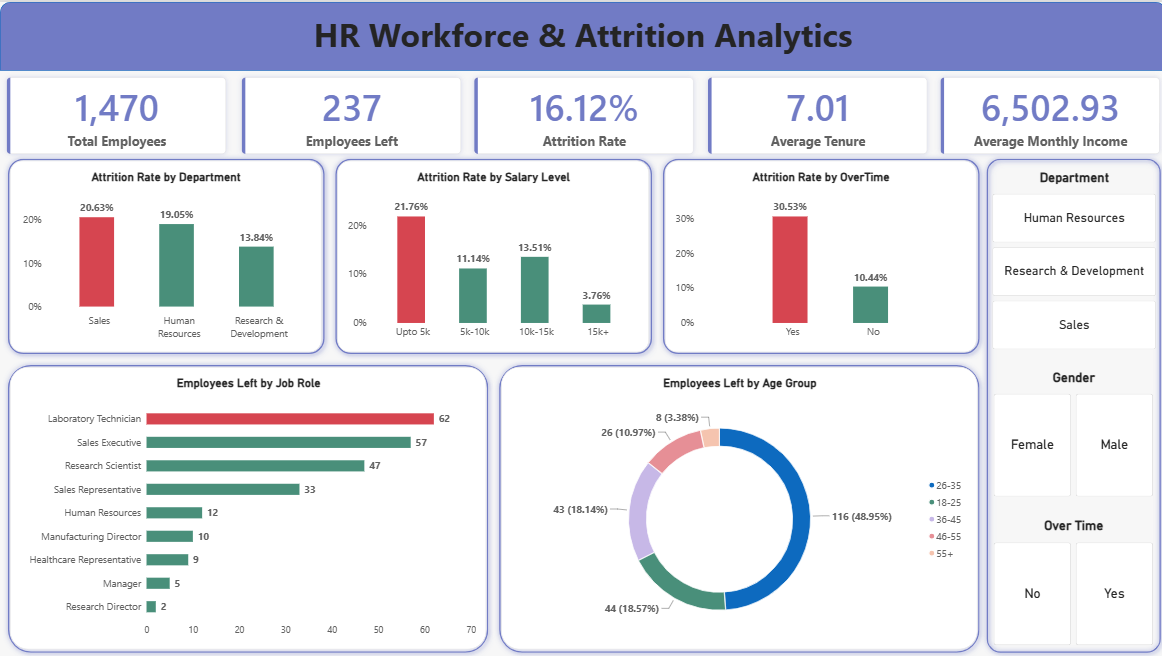

The page's visual inventory and layout, read from the dashboard file:
{"tool":"powerbi","page":{"name":"Workforce & Attrition Overview","canvas":[1920,1080],"ordinal":0},"visuals":[{"type":"cardVisual","fields":{"Data":["public hr_employee_data.Total Employees"]},"box":[0,113.2,383,148],"z":0},{"type":"cardVisual","fields":{"Data":["public hr_employee_data.Employees Left"]},"box":[387,113.2,383,148],"z":1000},{"type":"cardVisual","fields":{"Data":["public hr_employee_data.Attrition Rate"]},"box":[769.8,113.2,383,148],"z":2000},{"type":"cardVisual","fields":{"Data":["public hr_employee_data.Average Tenure"]},"box":[1154.7,113.2,383,148],"z":3000},{"type":"cardVisual","fields":{"Data":["public hr_employee_data.Average Monthly Income"]},"box":[1537.6,113.2,383,148],"z":4000},{"type":"shape","box":[0,0,1920.4,113.2],"z":5000},{"type":"textbox","box":[0,16.5,1920.4,127.6],"z":6000},{"type":"shape","box":[4.1,249.1,539.3,339.6],"z":7000},{"type":"shape","box":[543.4,249.1,539.3,339.6],"z":8000},{"type":"shape","box":[1082.7,249.1,539.3,339.6],"z":9000},{"type":"shape","box":[4.1,588.7,808.9,491.9],"z":10000},{"type":"shape","box":[813,588,808.9,491.9],"z":11000},{"type":"shape","box":[1615.8,249.1,304.6,831.6],"z":12000},{"type":"clusteredColumnChart","title":"Attrition Rate by Department","fields":{"Category":["public hr_employee_data.department"],"Y":["public hr_employee_data.Attrition Rate"]},"box":[16.5,261.4,512.5,314.9],"z":13000},{"type":"clusteredBarChart","title":"Employees Left by Job Role","fields":{"Category":["public hr_employee_data.job_role"],"Y":["public hr_employee_data.Employees Left"]},"box":[16.5,601,784.2,465.2],"z":14000},{"type":"clusteredColumnChart","title":"Attrition Rate by Salary Level","fields":{"Category":["public hr_employee_data.salary_slab"],"Y":["public hr_employee_data.Attrition Rate"]},"box":[555.7,261.4,512.5,314.9],"z":15000},{"type":"clusteredColumnChart","title":"Attrition Rate by OverTime","fields":{"Category":["public hr_employee_data.over_time"],"Y":["public hr_employee_data.Attrition Rate"]},"box":[1095,261.4,512.5,314.9],"z":16000},{"type":"donutChart","title":"Employees Left by Age Group","fields":{"Category":["public hr_employee_data.age_group"],"Y":["public hr_employee_data.Employees Left"]},"box":[825.4,601,784.2,465.2],"z":17000},{"type":"advancedSlicerVisual","title":"Department","fields":{"Values":["public hr_employee_data.department"]},"box":[1634.3,275.8,269.6,296.4],"z":18000},{"type":"advancedSlicerVisual","title":"Gender","fields":{"Values":["public hr_employee_data.gender"]},"box":[1636.4,605.1,263.5,209.9],"z":19000},{"type":"advancedSlicerVisual","title":"Over Time","fields":{"Values":["public hr_employee_data.over_time"]},"box":[1636.4,850.1,263.5,209.9],"z":20000}]}

Visuals, with their boxes in screenshot pixels (x1, y1, x2, y2), scaled from the page's 1920x1080 canvas onto the 1162x656 screenshot:
cardVisual - public hr_employee_data.Total Employees: 0:69:232:159
cardVisual - public hr_employee_data.Employees Left: 234:69:466:159
cardVisual - public hr_employee_data.Attrition Rate: 466:69:698:159
cardVisual - public hr_employee_data.Average Tenure: 699:69:931:159
cardVisual - public hr_employee_data.Average Monthly Income: 931:69:1161:159
shape: 0:0:1161:69
textbox: 0:10:1161:88
shape: 2:151:329:358
shape: 329:151:655:358
shape: 655:151:982:358
shape: 2:358:492:655
shape: 492:357:982:655
shape: 978:151:1161:655
"Attrition Rate by Department" clusteredColumnChart: 10:159:320:350
"Employees Left by Job Role" clusteredBarChart: 10:365:485:648
"Attrition Rate by Salary Level" clusteredColumnChart: 336:159:646:350
"Attrition Rate by OverTime" clusteredColumnChart: 663:159:973:350
"Employees Left by Age Group" donutChart: 500:365:974:648
"Department" advancedSlicerVisual: 989:168:1152:348
"Gender" advancedSlicerVisual: 990:368:1150:495
"Over Time" advancedSlicerVisual: 990:516:1150:644
